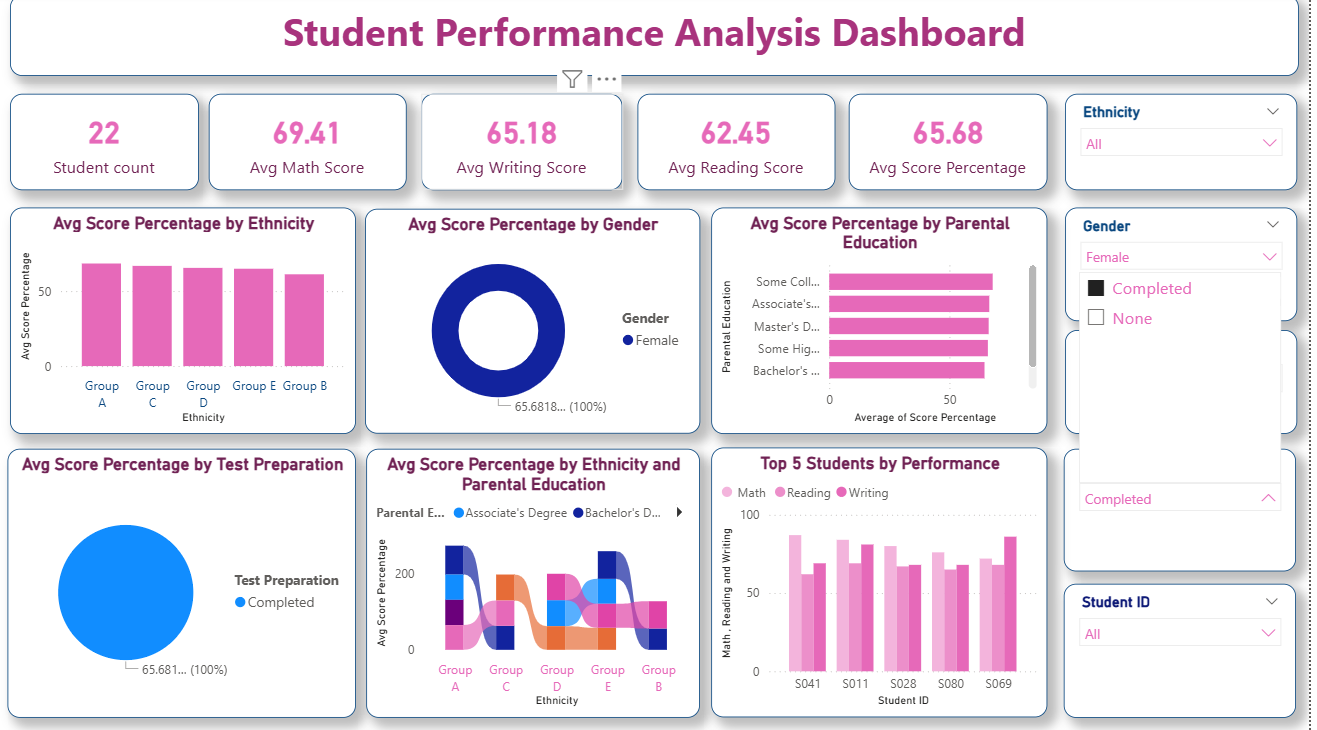

This screenshot's page, from the dashboard's own definition file:
{"tool":"powerbi","page":{"name":"Page 1","canvas":[1280,720],"ordinal":0},"visuals":[{"type":"textbox","box":[9.6,0,1261.1,79.6],"z":0},{"type":"card","fields":{"Values":["CountNonNull(marks.Student ID)"]},"box":[9.8,96.6,184.6,94.2],"z":1000},{"type":"card","fields":{"Values":["Avg(marks.Math Score)"]},"box":[204.2,96.6,193.2,94.2],"z":2000},{"type":"card","fields":{"Values":["Avg(marks.Writing Score)"]},"box":[412.1,96.6,196.9,94.2],"z":3000},{"type":"card","fields":{"Values":["Avg(marks.Reading Score)"]},"box":[623.6,96.6,193.2,94.2],"z":4000},{"type":"card","fields":{"Values":["Avg(marks.Score Percentage)"]},"box":[830.3,96.6,194.4,94.2],"z":5000},{"type":"slicer","fields":{"Values":["marks.Ethnicity"]},"box":[1041.9,96.6,227.4,94.2],"z":6000},{"type":"slicer","fields":{"Values":["marks.Gender"]},"box":[1041.9,207.9,227.4,111.3],"z":7000},{"type":"slicer","fields":{"Values":["marks.Parental Education"]},"box":[1041.9,327.7,227.4,101.5],"z":9000},{"type":"columnChart","fields":{"Category":["marks.Ethnicity"],"Y":["Avg(marks.Score Percentage)"]},"box":[9.8,207.9,338.7,221.3],"z":10000},{"type":"donutChart","title":"Avg Score Percentage by Gender","fields":{"Category":["marks.Gender"],"Y":["Avg(marks.Score Percentage)"]},"box":[357.1,209.1,327.7,220.1],"z":11000},{"type":"clusteredBarChart","title":"Avg Score Percentage by Parental Education","fields":{"Category":["marks.Parental Education"],"Y":["Avg(marks.Score Percentage)"]},"box":[695.8,207.9,328.9,221.3],"z":12000},{"type":"pieChart","title":"Avg Score Percentage by Test Preparation","fields":{"Category":["marks.Test Preparation"],"Y":["Avg(marks.Score Percentage)"]},"box":[7.3,443.9,341.2,262.9],"z":13000},{"type":"ribbonChart","fields":{"Category":["marks.Ethnicity"],"Y":["Avg(marks.Score Percentage)"],"Series":["marks.Parental Education"]},"box":[358.3,443.9,326.5,262.9],"z":14000},{"type":"slicer","fields":{"Values":["marks.Test Preparation"]},"box":[1040.6,443.9,227.4,119.8],"z":15000},{"type":"clusteredColumnChart","title":"Top 5 Students by Performance","fields":{"Y":["Avg(marks.Math Score)","Avg(marks.Reading Score)","Avg(marks.Writing Score)"],"Category":["marks.Student ID"]},"box":[695.8,442.7,328.9,264.1],"z":16000},{"type":"slicer","fields":{"Values":["marks.Student ID"]},"box":[1040.6,576,227.4,130.8],"z":17000}]}

Visuals, with their boxes in screenshot pixels (x1, y1, x2, y2), scaled from the page's 1280x720 canvas onto the 1317x730 screenshot:
textbox: crop(10, 0, 1307, 81)
card - CountNonNull(marks.Student ID): crop(10, 98, 200, 193)
card - Avg(marks.Math Score): crop(210, 98, 409, 193)
card - Avg(marks.Writing Score): crop(424, 98, 627, 193)
card - Avg(marks.Reading Score): crop(642, 98, 840, 193)
card - Avg(marks.Score Percentage): crop(854, 98, 1054, 193)
slicer - marks.Ethnicity: crop(1072, 98, 1306, 193)
slicer - marks.Gender: crop(1072, 211, 1306, 324)
slicer - marks.Parental Education: crop(1072, 332, 1306, 435)
columnChart - marks.Ethnicity x Avg(marks.Score Percentage): crop(10, 211, 359, 435)
"Avg Score Percentage by Gender" donutChart: crop(367, 212, 705, 435)
"Avg Score Percentage by Parental Education" clusteredBarChart: crop(716, 211, 1054, 435)
"Avg Score Percentage by Test Preparation" pieChart: crop(8, 450, 359, 717)
ribbonChart - marks.Ethnicity x Avg(marks.Score Percentage): crop(369, 450, 705, 717)
slicer - marks.Test Preparation: crop(1071, 450, 1305, 572)
"Top 5 Students by Performance" clusteredColumnChart: crop(716, 449, 1054, 717)
slicer - marks.Student ID: crop(1071, 584, 1305, 717)
